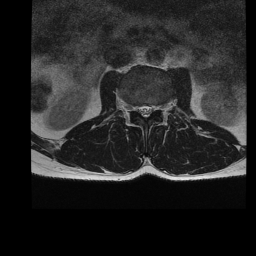CCS_stenosis: (143, 98, 148, 124)
LFS_stenosis: (153, 99, 160, 114)
LLS_stenosis: (147, 100, 153, 118)
RFS_stenosis: (129, 97, 136, 117)
RLS_normal: (136, 100, 143, 118)
